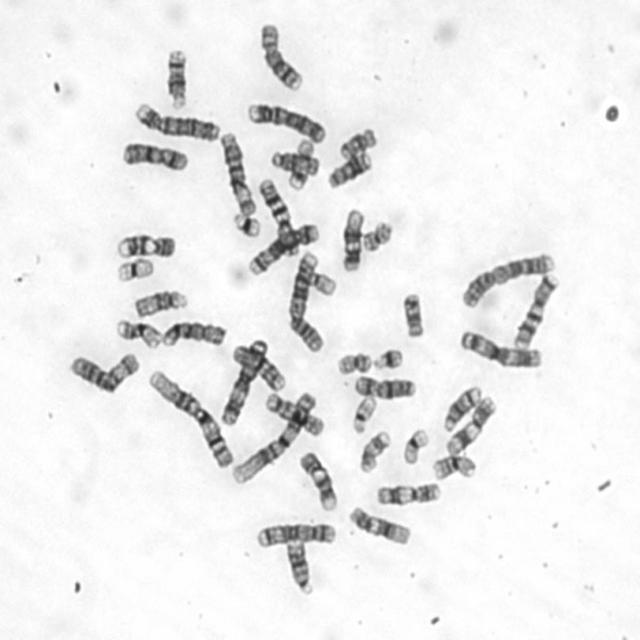A1: (145, 367, 235, 471), (230, 389, 319, 486)
A2: (460, 252, 557, 309), (287, 251, 326, 352)
A3: (220, 336, 270, 427), (458, 328, 545, 370)
B4: (246, 101, 328, 145), (135, 103, 220, 144)
B5: (247, 224, 320, 276), (255, 522, 337, 552)
C10: (263, 391, 326, 438), (230, 342, 288, 392)
C11: (443, 394, 498, 456), (375, 483, 443, 505)
C12: (346, 504, 412, 547), (339, 207, 366, 273)
C6: (67, 350, 142, 396), (219, 132, 258, 217)
C7: (511, 270, 562, 350), (256, 177, 302, 258)
C8: (258, 22, 305, 93), (162, 322, 228, 348)
C9: (297, 448, 339, 512), (115, 232, 178, 260)
D13: (283, 535, 315, 596), (324, 152, 374, 189)
D14: (443, 382, 483, 433), (164, 46, 191, 111)
D15: (134, 289, 190, 319), (269, 148, 321, 178)
E16: (114, 317, 162, 351), (429, 454, 478, 484)
E17: (286, 138, 318, 190), (358, 428, 394, 472)
E18: (339, 128, 378, 162), (401, 290, 428, 338)
F19: (400, 426, 430, 467), (116, 256, 158, 284)
F20: (360, 218, 394, 252), (334, 350, 372, 374)
G21: (230, 209, 264, 239), (371, 348, 406, 372)
G22: (350, 394, 377, 435), (305, 270, 339, 298)
X: (121, 140, 190, 174), (354, 375, 416, 400)
